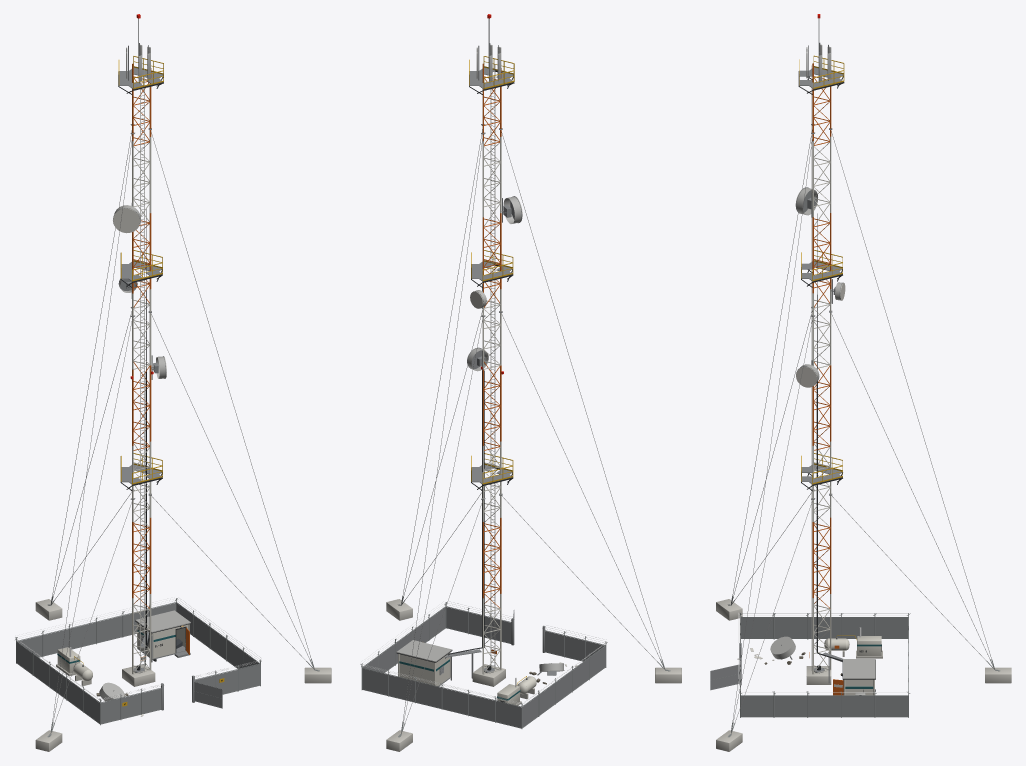
File: relay-mast.glb
The picture shows the model from 3 angles, left to right: view 1: azimuth 30°, elevation 25°; view 2: azimuth 150°, elevation 25°; view 3: azimuth 270°, elevation 25°; orthographic projection.
Parts seen in each view (by area): view 1: C0_0_lod0, C0_-1_lod0, C-1_-1_lod0, C-1_0_lod0; view 2: C0_0_lod0, C0_-1_lod0, C-1_-1_lod0, C-1_0_lod0; view 3: C0_0_lod0, C-1_0_lod0, C0_-1_lod0, C-1_-1_lod0.
Part boxes in pixels (x1,y1,x2,y2): C0_0_lod0: [15, 14, 260, 686]; C0_-1_lod0: [132, 50, 331, 708]; C-1_-1_lod0: [35, 52, 163, 751]; C-1_0_lod0: [15, 45, 132, 723]; C0_0_lod0: [360, 14, 521, 751]; C0_-1_lod0: [386, 43, 514, 669]; C-1_-1_lod0: [494, 45, 681, 692]; C-1_0_lod0: [467, 50, 606, 728]; C0_0_lod0: [741, 14, 1011, 717]; C-1_0_lod0: [740, 42, 910, 669]; C0_-1_lod0: [710, 49, 819, 751]; C-1_-1_lod0: [716, 45, 817, 664].
Size of what is drawn, in the model's own units: 30.46 by 65.5 by 26.9.
